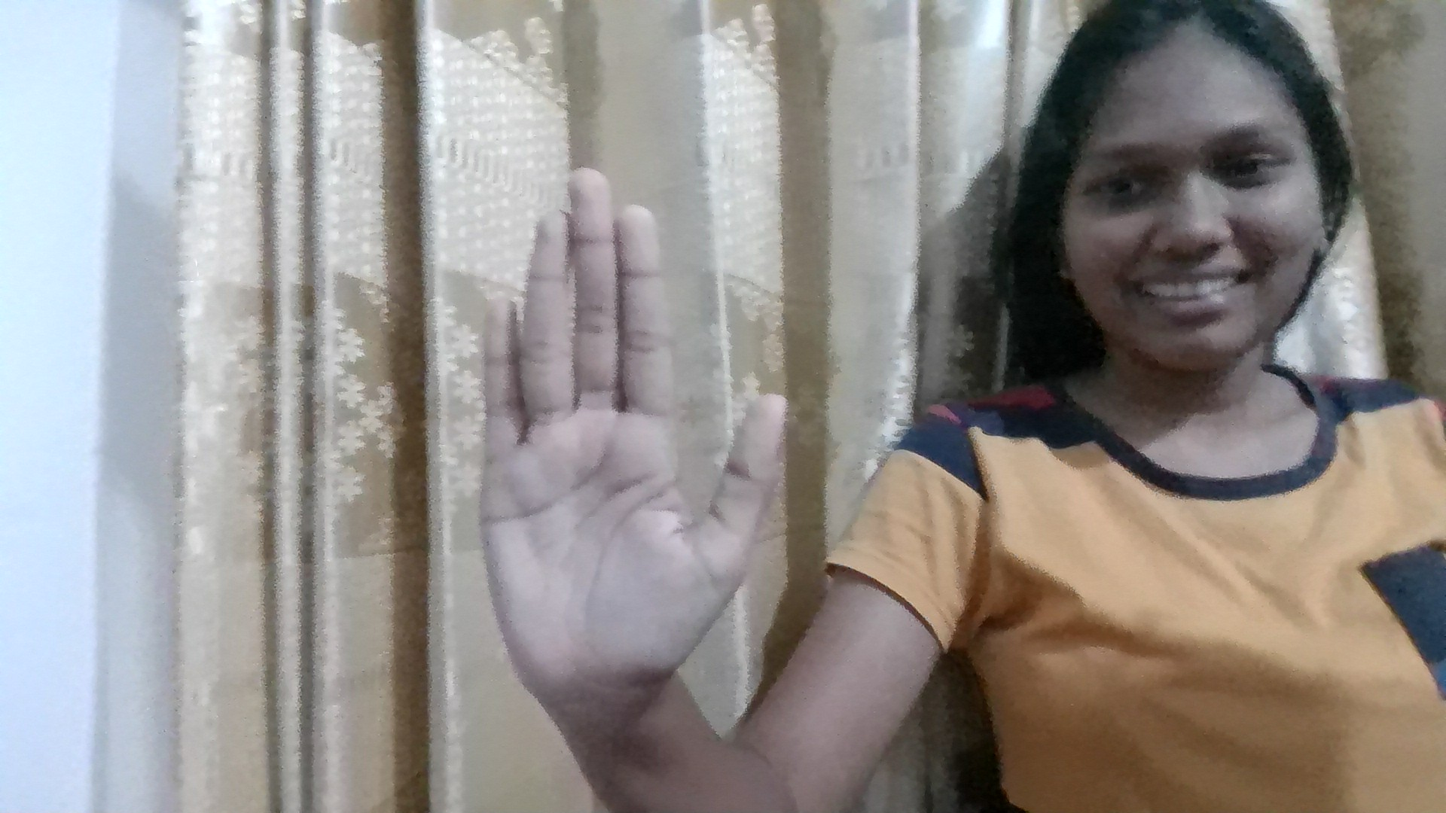Hello: (442, 140, 809, 718)
